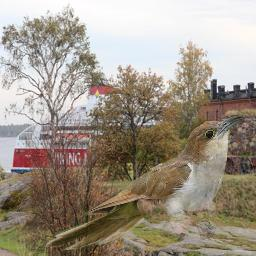Cuckoo: (44, 114, 245, 250)
